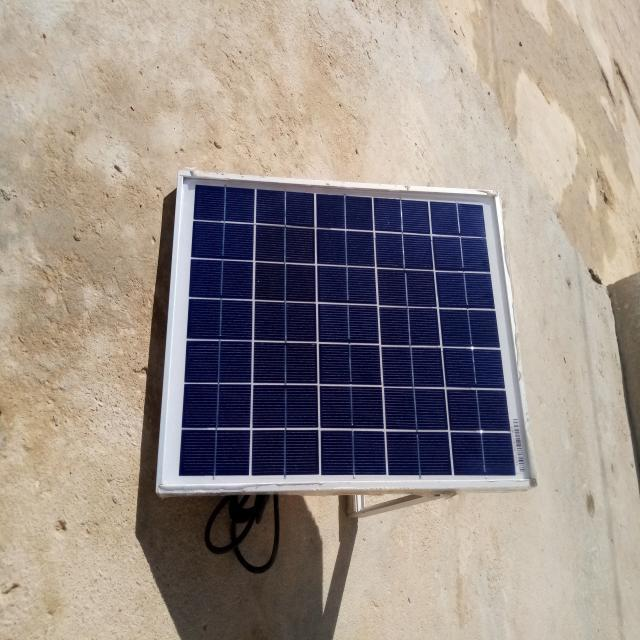Normal Solar Panel: (155, 176, 535, 492)
